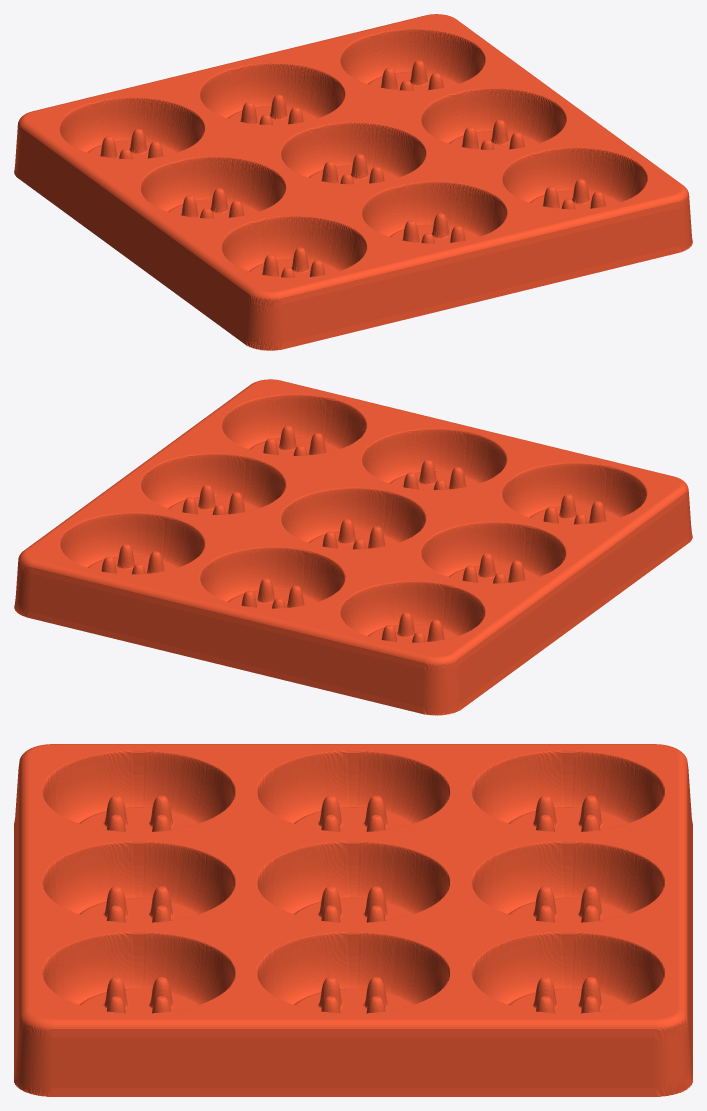
The model's file is mold.glb.
3 renders of one model, top to bottom at view 1: azimuth 30°, elevation 25°; view 2: azimuth 150°, elevation 25°; view 3: azimuth 270°, elevation 25°, orthographic. The views are drawn at different scales.
Visible parts, largest first — view 1: geometry_0; view 2: geometry_0; view 3: geometry_0.
Boxes of the visible parts, left/top/right/bottom form: geometry_0: left=14, top=14, right=692, bottom=350; geometry_0: left=14, top=379, right=692, bottom=715; geometry_0: left=14, top=744, right=692, bottom=1096.
Bounding box in the file's own units: 0.1595 × 0.0185 × 0.1595.
